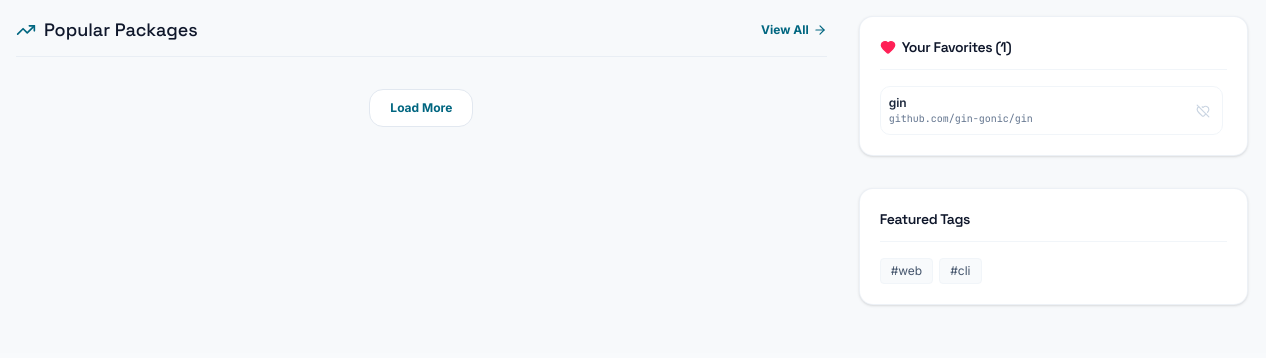
Test: PopularPackageSection › shows favorites with a working remove action
Expected: the text "Your Favorites (1)" is shown, [880,37,1011,57]
Click the button named "remove gin from favorites".
click(1203, 110)  # box [1192,100,1214,122]
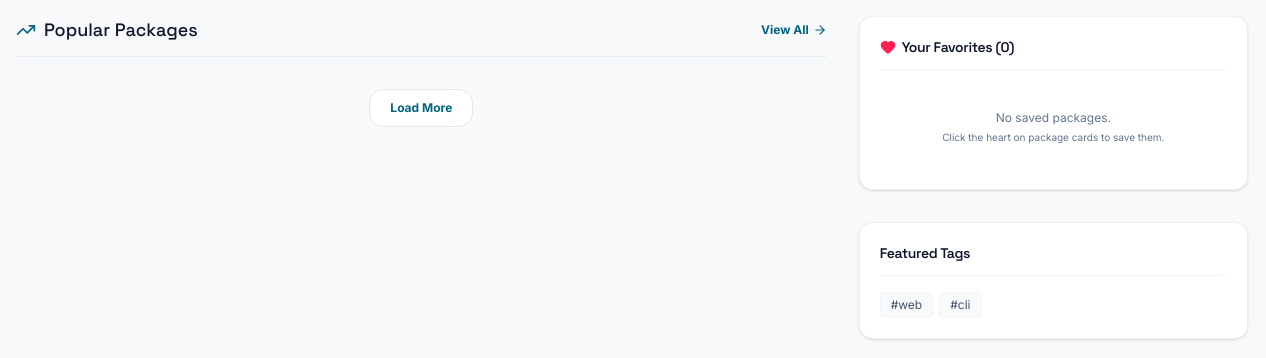
Result: the text "No saved packages." is shown at [996,110,1111,125]
